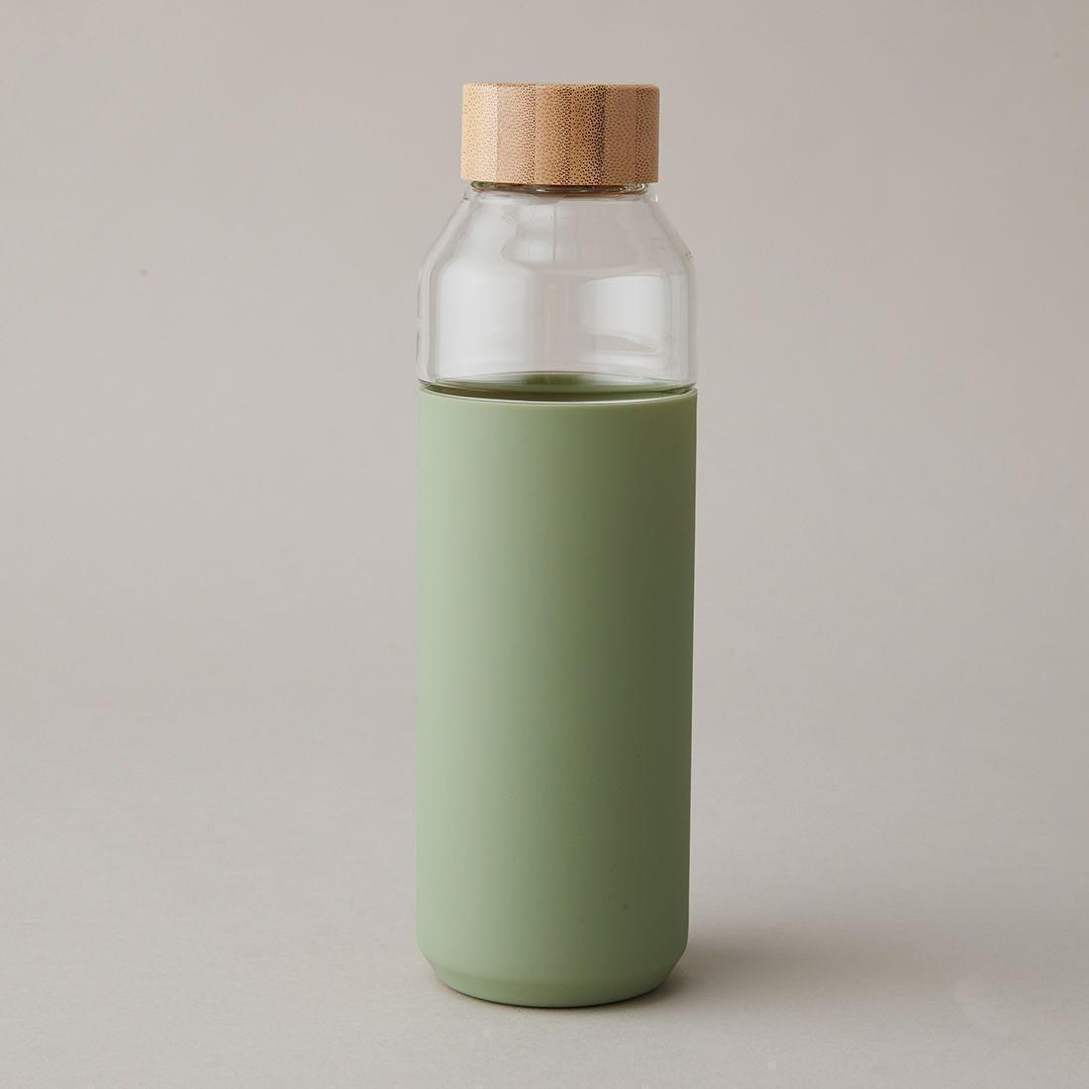gym bottle: (408, 72, 706, 1016)
